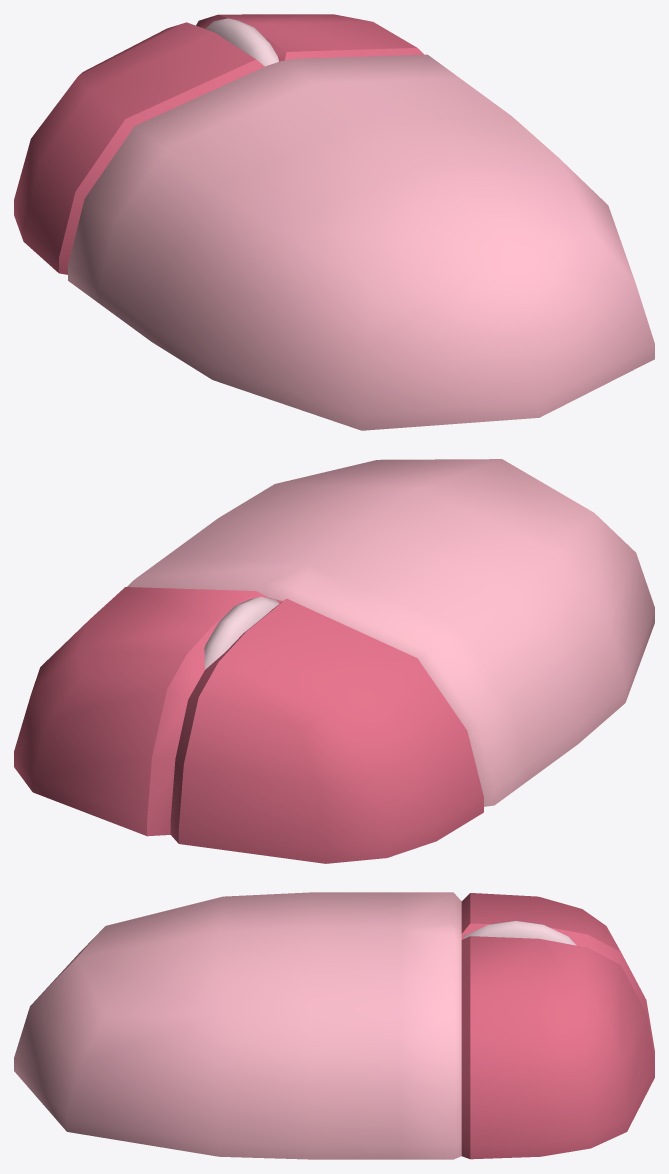
File: Doll_OB_Mouse01.fbx
The picture shows the model from 3 angles, top to bottom: view 1: azimuth 30°, elevation 25°; view 2: azimuth 150°, elevation 25°; view 3: azimuth 270°, elevation 25°; orthographic projection. The views are drawn at different scales.
Visible parts, largest first — view 1: Doll_OB_Mouse01; view 2: Doll_OB_Mouse01; view 3: Doll_OB_Mouse01.
Part boxes in pixels (bbox=[...]): Doll_OB_Mouse01: bbox=[14, 14, 654, 430]; Doll_OB_Mouse01: bbox=[14, 459, 654, 863]; Doll_OB_Mouse01: bbox=[14, 892, 654, 1159].
Bounding box in the file's own units: 6.99 × 2.77 × 10.69.
1 material, 1 textured.
